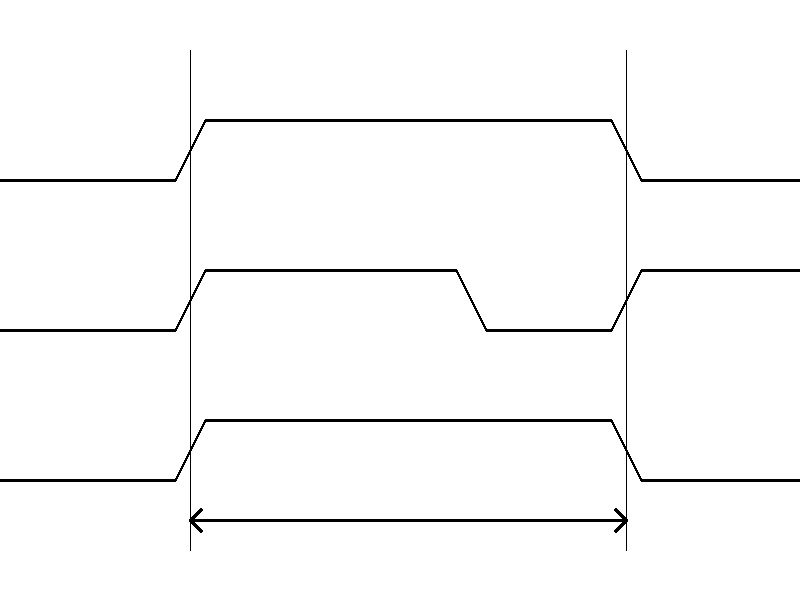double_arrow: (190, 505, 626, 535)
